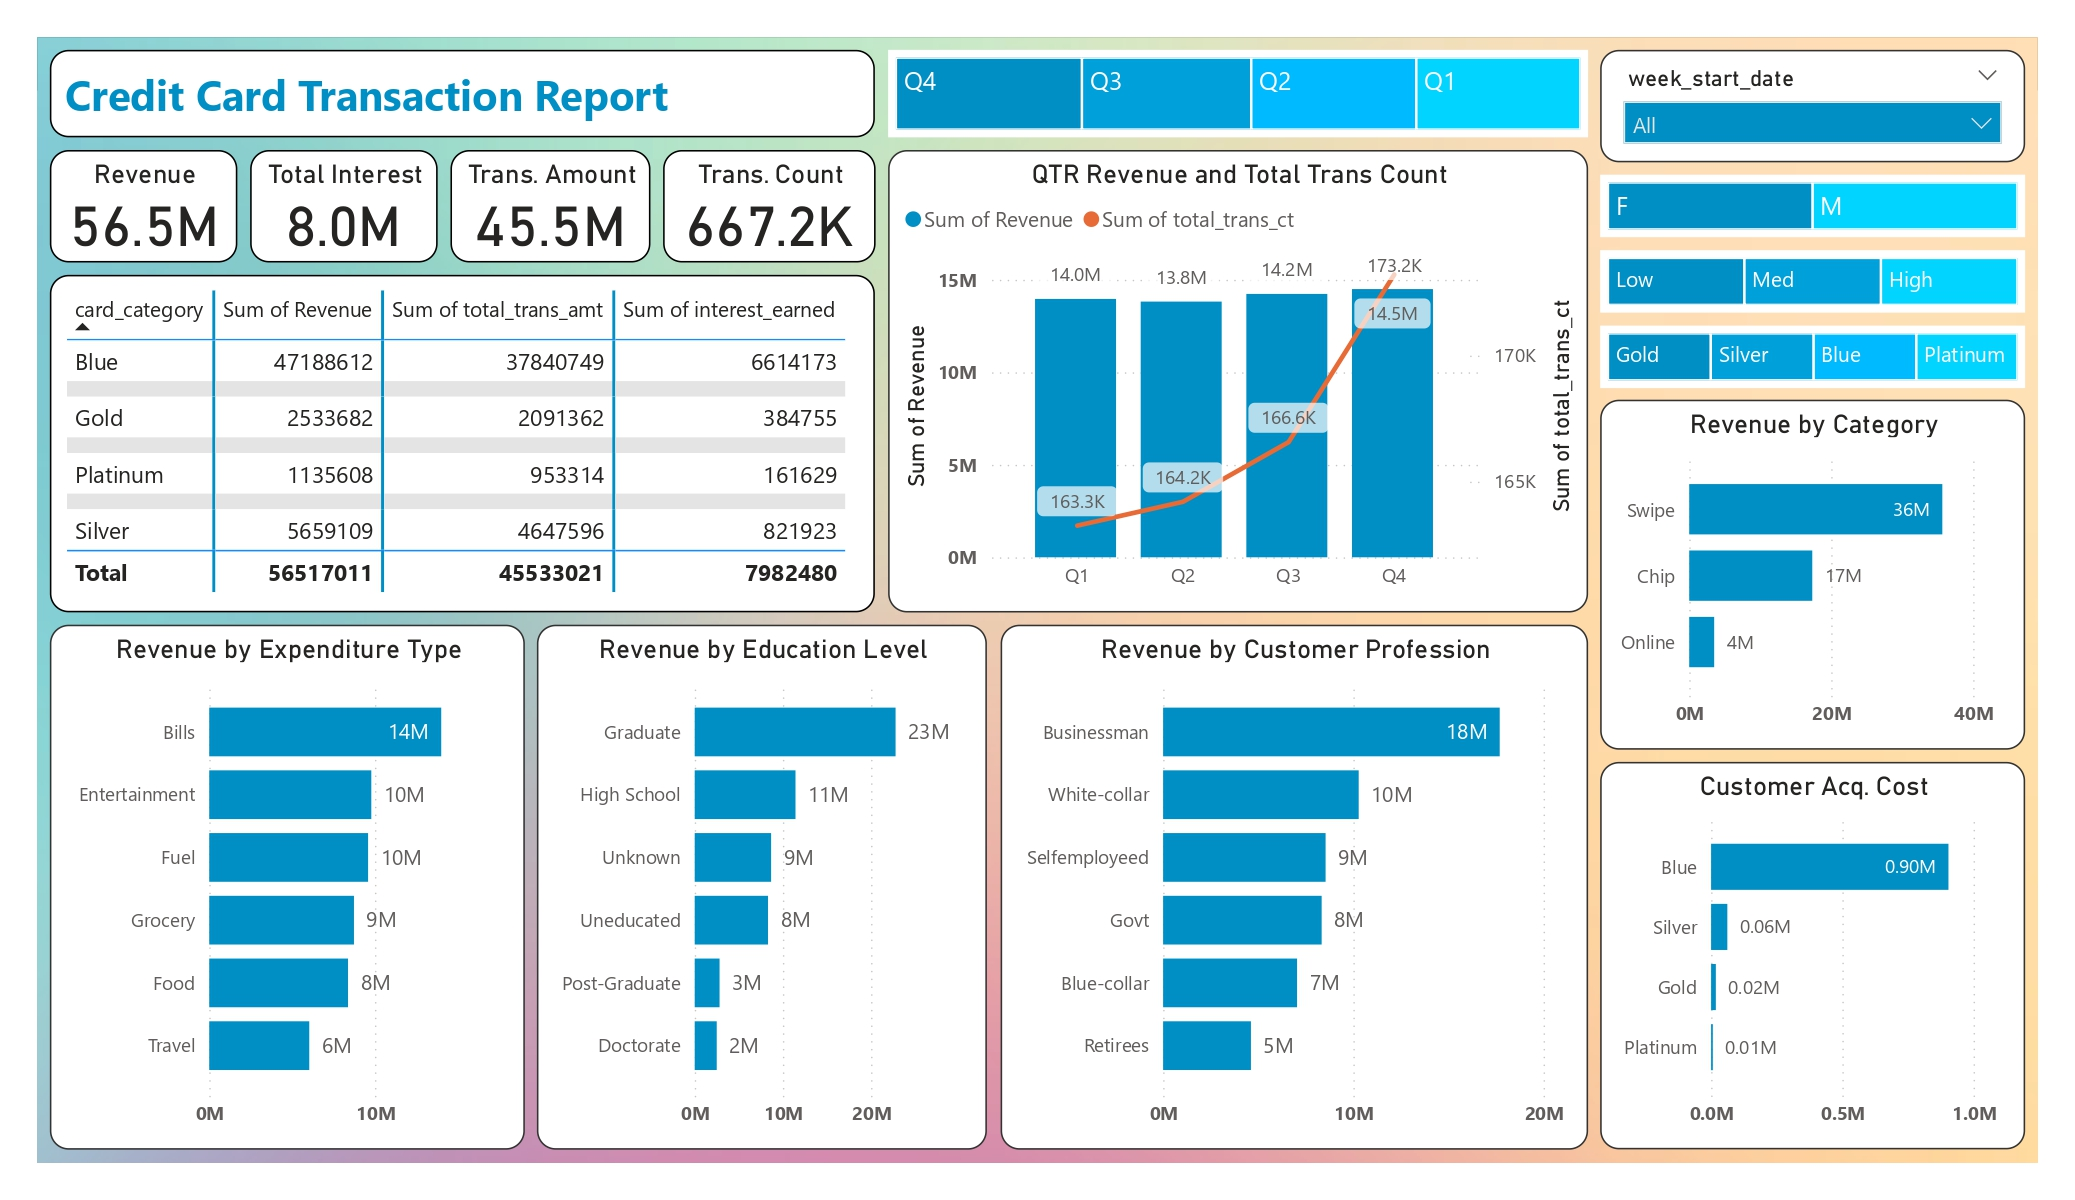

The dashboard page shown, as its layout file describes it:
{"tool":"powerbi","page":{"name":"Final Weekly Report","canvas":[1280,720],"ordinal":0},"visuals":[{"type":"textbox","box":[8,8,528,56],"z":0},{"type":"lineStackedColumnComboChart","title":"QTR Revenue and Total Trans Count","fields":{"Category":["public cc_detail.qtr"],"Y":["Sum(public cc_detail.Revenue)"],"Y2":["Sum(public cc_detail.total_trans_ct)"]},"box":[544,72,448,296],"z":1000},{"type":"barChart","title":"Revenue by Expenditure Type","fields":{"Y":["Sum(public cc_detail.Revenue)"],"Category":["public cc_detail.exp_type"]},"box":[8,376,304,336],"z":2000},{"type":"barChart","title":"Revenue by Education Level","fields":{"Y":["Sum(public cc_detail.Revenue)"],"Category":["public cust_detail.education_level"]},"box":[320,376,288,336],"z":3000},{"type":"barChart","title":"Revenue by Customer Profession","fields":{"Y":["Sum(public cc_detail.Revenue)"],"Category":["public cust_detail.customer_job"]},"box":[616,376,376,336],"z":4000},{"type":"barChart","title":"Customer Acq. Cost","fields":{"Category":["public cc_detail.card_category"],"Y":["Sum(public cc_detail.customer_acq_cost)"]},"box":[1000,464,272,248],"z":5000},{"type":"barChart","title":"Revenue by Category","fields":{"Y":["Sum(public cc_detail.Revenue)"],"Category":["public cc_detail.use_chip"]},"box":[1000,232,272,224],"z":6000},{"type":"tableEx","fields":{"Values":["public cc_detail.card_category","Sum(public cc_detail.Revenue)","Sum(public cc_detail.total_trans_amt)","Sum(public cc_detail.interest_earned)"]},"box":[8,152,528,216],"z":7000},{"type":"card","title":"Revenue","fields":{"Values":["Sum(public cc_detail.Revenue)"]},"box":[8,72,120,72],"z":8000},{"type":"card","title":"Total Interest","fields":{"Values":["Sum(public cc_detail.interest_earned)"]},"box":[136,72,120,72],"z":9000},{"type":"card","title":"Trans. Amount","fields":{"Values":["Sum(public cc_detail.total_trans_amt)"]},"box":[264,72,128,72],"z":10000},{"type":"card","title":"Trans. Count","fields":{"Values":["Sum(public cc_detail.total_trans_ct)"]},"box":[400,72,136,72],"z":11000},{"type":"slicer","fields":{"Values":["public cc_detail.week_start_date"]},"box":[1000,8,272,72],"z":12000},{"type":"treemap","fields":{"Group":["public cc_detail.qtr"],"Values":["Avg(public cust_detail.client_num)"]},"box":[544,8,448,56],"z":13000},{"type":"treemap","fields":{"Values":["Avg(public cust_detail.client_num)"],"Group":["public cust_detail.gender"]},"box":[1000,88,272,40],"z":14000},{"type":"treemap","fields":{"Values":["Avg(public cust_detail.client_num)"],"Group":["public cc_detail.card_category"]},"box":[1000,184,272,40],"z":15000},{"type":"treemap","fields":{"Values":["Avg(public cust_detail.client_num)"],"Group":["public cust_detail.IncomeGroup"]},"box":[1000,136,272,40],"z":16000}]}

Visuals, with their boxes in screenshot pixels (x1, y1, x2, y2):
textbox: x1=50 y1=50 x2=875 y2=138
"QTR Revenue and Total Trans Count" lineStackedColumnComboChart: x1=888 y1=150 x2=1588 y2=612
"Revenue by Expenditure Type" barChart: x1=50 y1=625 x2=525 y2=1150
"Revenue by Education Level" barChart: x1=538 y1=625 x2=988 y2=1150
"Revenue by Customer Profession" barChart: x1=1000 y1=625 x2=1588 y2=1150
"Customer Acq. Cost" barChart: x1=1600 y1=762 x2=2025 y2=1150
"Revenue by Category" barChart: x1=1600 y1=400 x2=2025 y2=750
tableEx - public cc_detail.card_category x Sum(public cc_detail.Revenue): x1=50 y1=275 x2=875 y2=612
"Revenue" card: x1=50 y1=150 x2=238 y2=262
"Total Interest" card: x1=250 y1=150 x2=438 y2=262
"Trans. Amount" card: x1=450 y1=150 x2=650 y2=262
"Trans. Count" card: x1=662 y1=150 x2=875 y2=262
slicer - public cc_detail.week_start_date: x1=1600 y1=50 x2=2025 y2=162
treemap - public cc_detail.qtr x Avg(public cust_detail.client_num): x1=888 y1=50 x2=1588 y2=138
treemap - Avg(public cust_detail.client_num) x public cust_detail.gender: x1=1600 y1=175 x2=2025 y2=238
treemap - Avg(public cust_detail.client_num) x public cc_detail.card_category: x1=1600 y1=325 x2=2025 y2=388
treemap - Avg(public cust_detail.client_num) x public cust_detail.IncomeGroup: x1=1600 y1=250 x2=2025 y2=312
